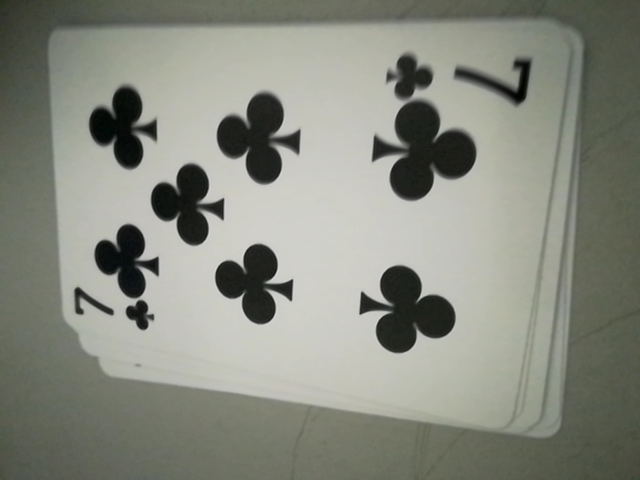mh 7: (385, 42, 544, 107), (69, 286, 156, 340)
